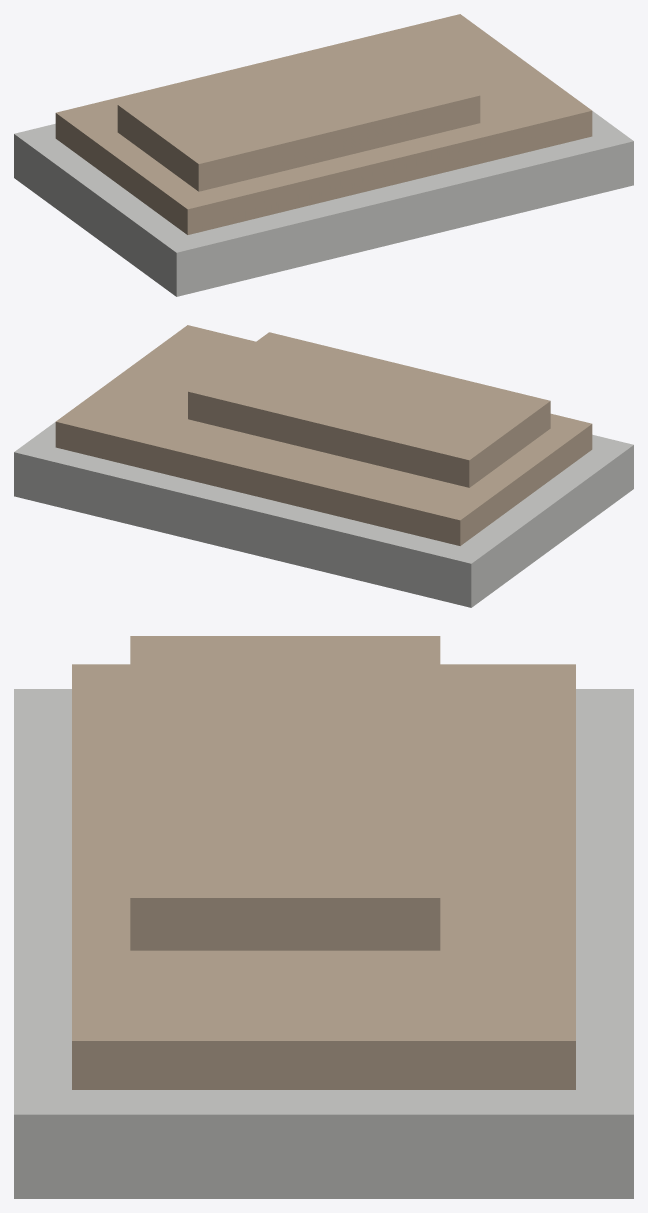
File: flower_bed.glb
The picture shows the model from 3 angles, top to bottom: view 1: azimuth 30°, elevation 25°; view 2: azimuth 150°, elevation 25°; view 3: azimuth 270°, elevation 25°; orthographic projection. The views are drawn at different scales.
Visible parts, largest first — view 1: props_flower_bed; view 2: props_flower_bed; view 3: props_flower_bed.
Part boxes in pixels (x1=…): props_flower_bed: x1=14, y1=14, x2=633, y2=296; props_flower_bed: x1=14, y1=325, x2=633, y2=607; props_flower_bed: x1=14, y1=636, x2=633, y2=1198.
Size of the model in its own units: 2.6 by 0.53 by 1.6.
